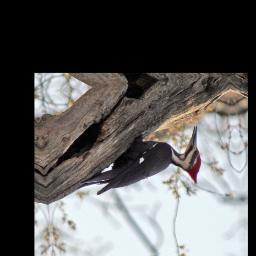Woodpecker: (72, 124, 204, 198)
